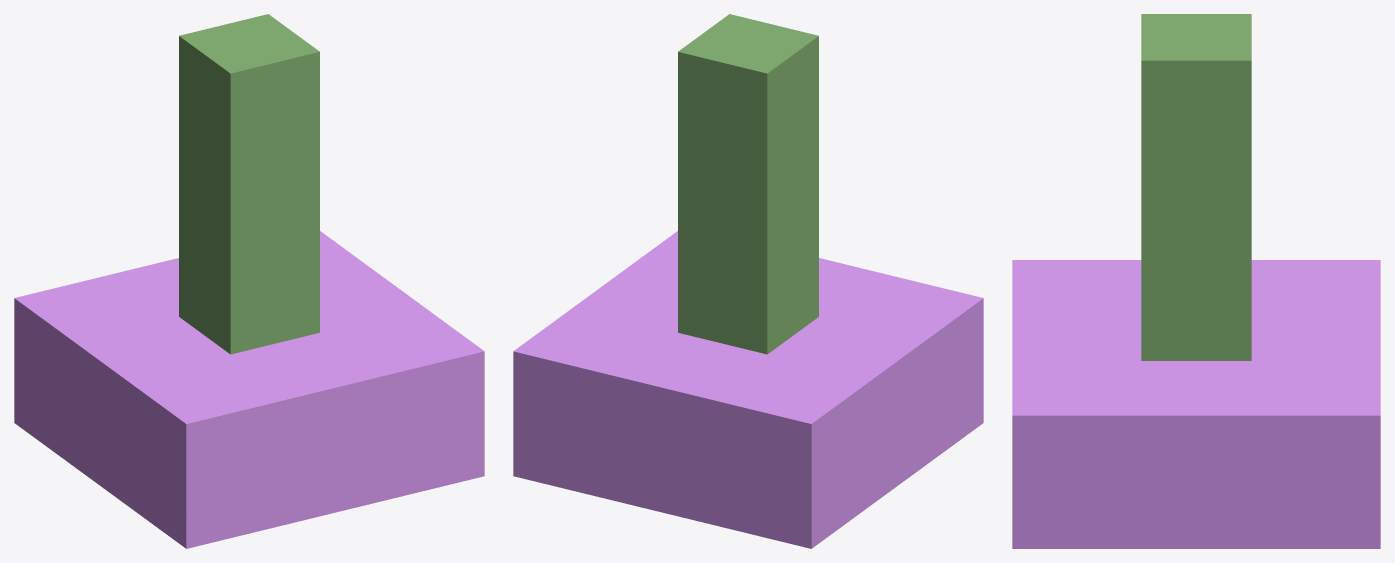
Rendered from Item_DS_Herb_SwapRoot.glb.
3 views of the same model, side by side, from view 1: azimuth 30°, elevation 25°; view 2: azimuth 150°, elevation 25°; view 3: azimuth 270°, elevation 25° (orthographic). The views are drawn at different scales.
Parts seen in each view (by area): view 1: Cube, Cube.001; view 2: Cube, Cube.001; view 3: Cube, Cube.001.
Part boxes in pixels (x1,y1,x2,y2): Cube: (14,231,484,548); Cube.001: (179,14,319,354); Cube: (513,231,983,548); Cube.001: (678,14,818,354); Cube: (1012,260,1380,548); Cube.001: (1141,14,1251,360).
Size of the model in its own units: 0.2 by 0.26 by 0.2.
